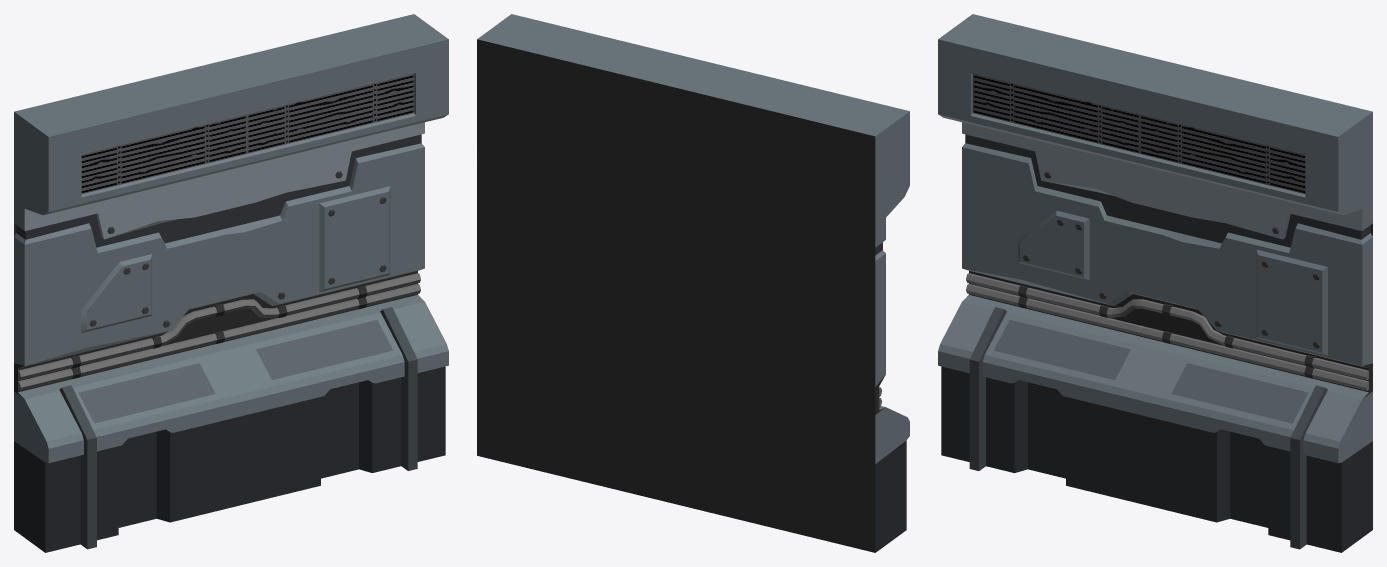
Rendered from SM_Bld_Wall_06.fbx.
3 views of the same model, side by side, from view 1: azimuth 30°, elevation 25°; view 2: azimuth 150°, elevation 25°; view 3: azimuth 330°, elevation 25° (orthographic).
Visible parts, largest first — view 1: SM_Bld_Wall_06; view 2: SM_Bld_Wall_06; view 3: SM_Bld_Wall_06.
Boxes of the visible parts, x1,y1,x2,y2 form: SM_Bld_Wall_06: [14, 14, 448, 552]; SM_Bld_Wall_06: [477, 14, 909, 552]; SM_Bld_Wall_06: [938, 14, 1372, 552].
Size of the model in its own units: 500 by 500 by 82.67.
Materials: 1 (1 with a texture image).
